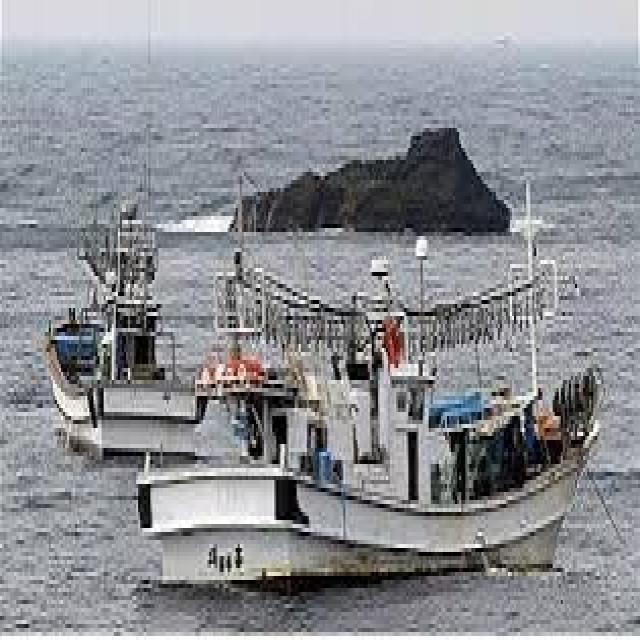Ship: (125, 165, 617, 613), (52, 97, 215, 465)
